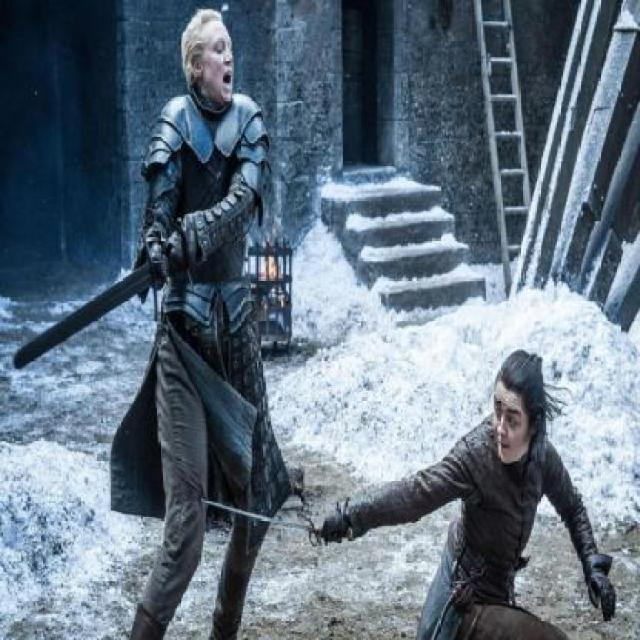weapon: (314, 348, 620, 639)
